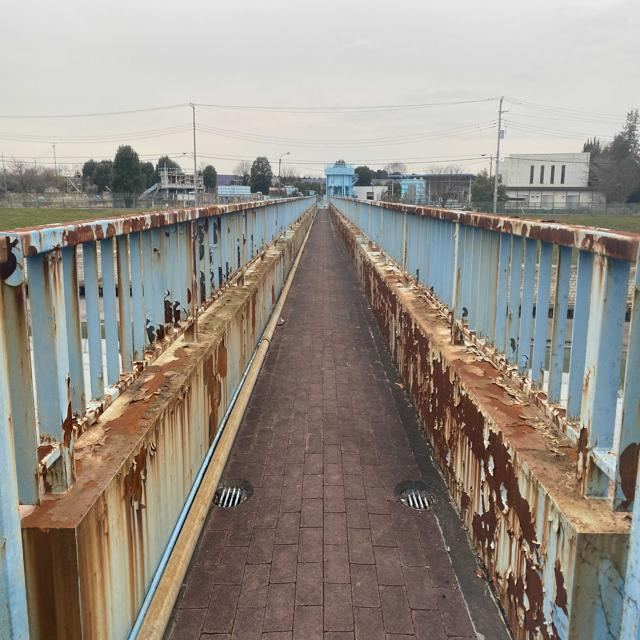corrosion: (334, 172, 627, 622), (20, 181, 299, 593)
